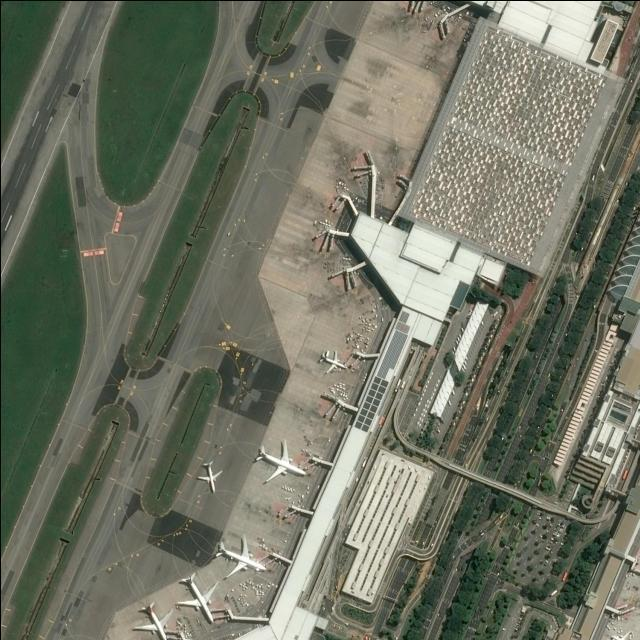Aircraft: (254, 438, 306, 484), (214, 535, 267, 577), (176, 571, 217, 617), (133, 600, 170, 640), (196, 458, 224, 490), (318, 350, 350, 374), (609, 628, 636, 640)
